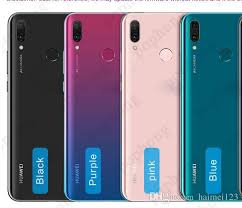huawei: (63, 10, 127, 202), (179, 11, 242, 203), (123, 10, 186, 202), (6, 12, 67, 197)
